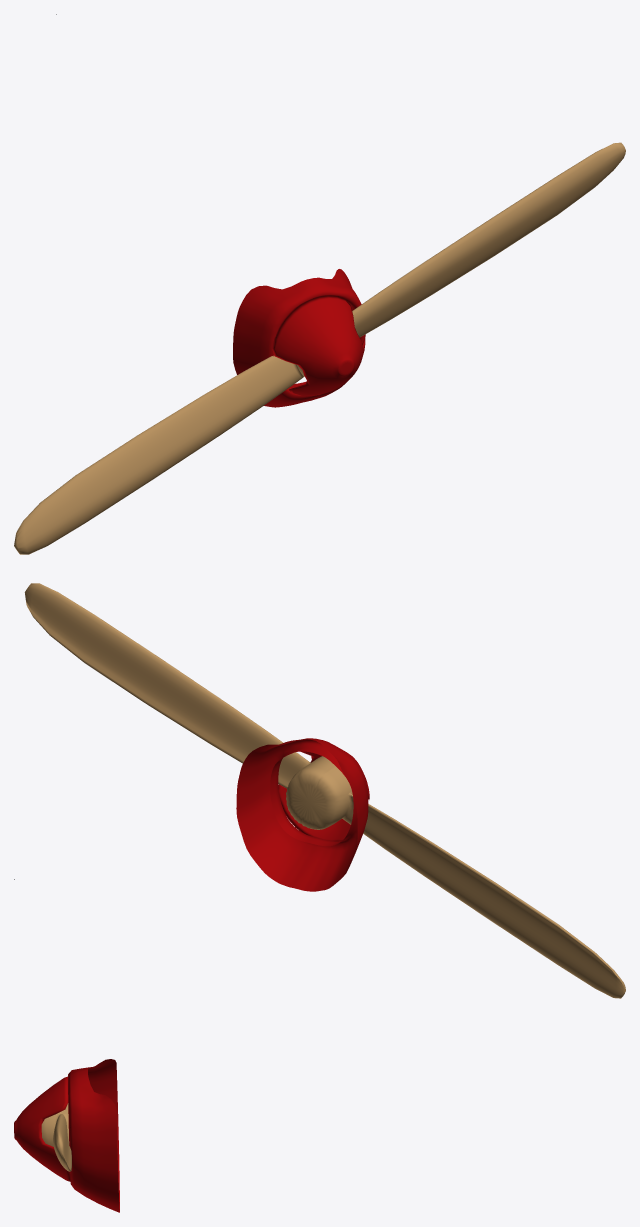
File: propellor.obj
The picture shows the model from 3 angles, top to bottom: view 1: azimuth 30°, elevation 25°; view 2: azimuth 150°, elevation 25°; view 3: azimuth 270°, elevation 25°; orthographic projection. The views are drawn at different scales.
Parts seen in each view (by area): view 1: Cylinder_Cylinder.001, BezierCurve.000_Mesh.010, BezierCurve.002_Mesh.011; view 2: Cylinder_Cylinder.001, BezierCurve.002_Mesh.011, BezierCurve.000_Mesh.010; view 3: BezierCurve.002_Mesh.011, BezierCurve.000_Mesh.010, Cylinder_Cylinder.001.
Part boxes in pixels (left/top/right/bottom): Cylinder_Cylinder.001: left=14, top=142, right=625, bottom=554; BezierCurve.000_Mesh.010: left=272, top=296, right=365, bottom=396; BezierCurve.002_Mesh.011: left=233, top=269, right=365, bottom=407; Cylinder_Cylinder.001: left=24, top=583, right=625, bottom=998; BezierCurve.002_Mesh.011: left=236, top=738, right=368, bottom=891; BezierCurve.000_Mesh.010: left=278, top=751, right=369, bottom=841; BezierCurve.002_Mesh.011: left=68, top=1059, right=119, bottom=1212; BezierCurve.000_Mesh.010: left=14, top=1076, right=70, bottom=1181; Cylinder_Cylinder.001: left=41, top=1103, right=71, bottom=1171.
Bounding box in the file's own units: 3.34 × 1.43 × 2.99.
3 materials, 1 textured.
